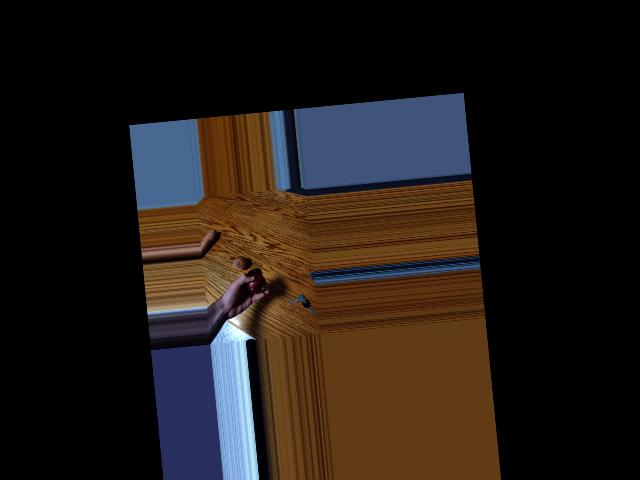onion: (246, 271, 266, 295)
